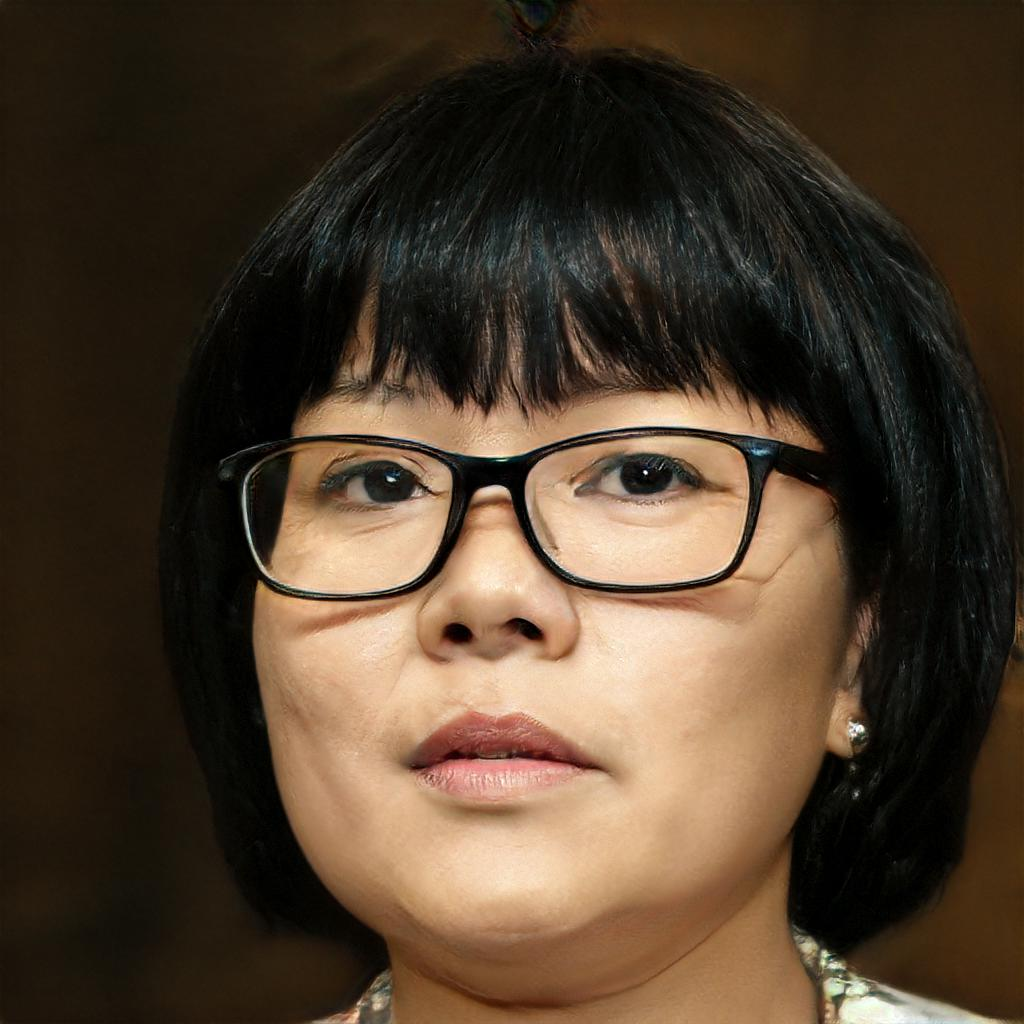face: (252, 270, 826, 942)
